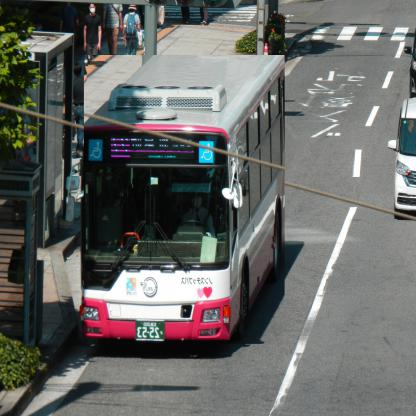bus: (85, 56, 286, 345)
